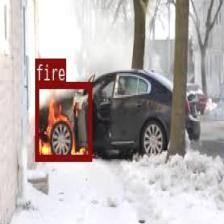fire: (35, 80, 91, 160)
